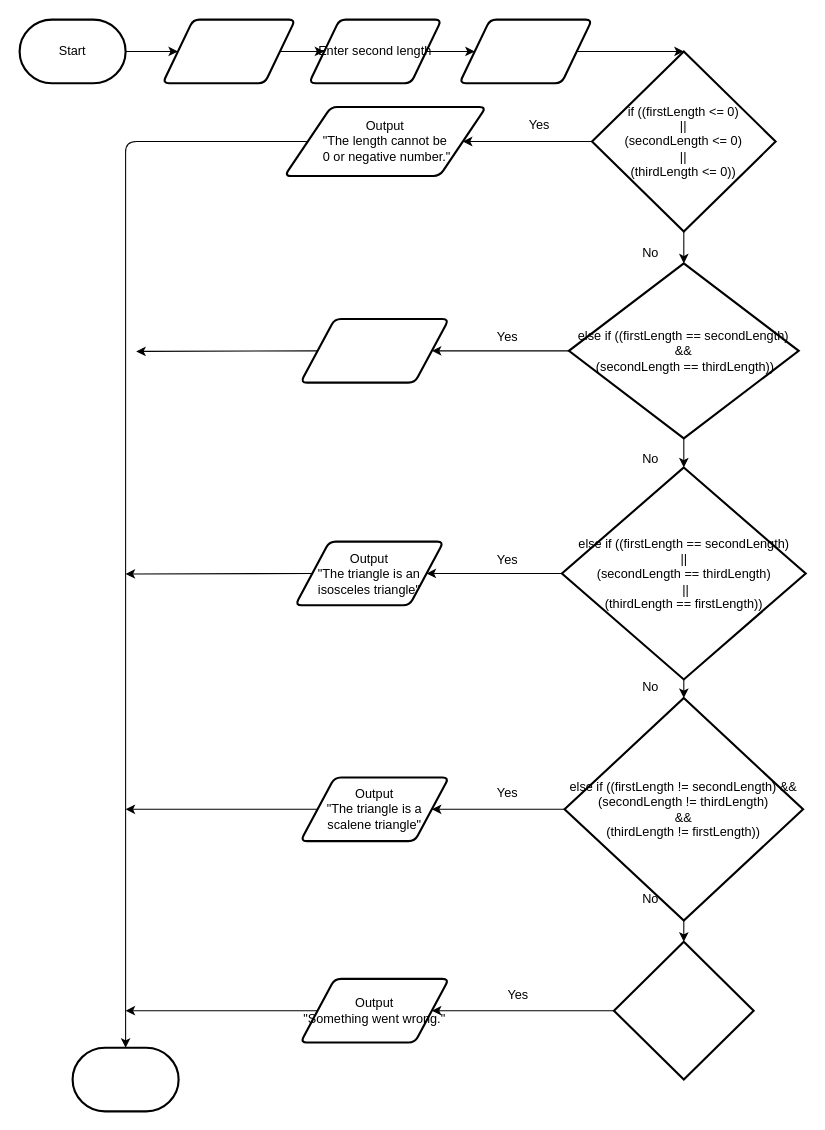
This 825x1130 diagram has some shape labels left out. Each missing label, with the centre of its shape:
else: (683,1010)
Enter first length: (228,51)
Enter third length: (525,51)
Output "The triangle is an equilateral triangle": (374,350)
Stop: (125,1079)
